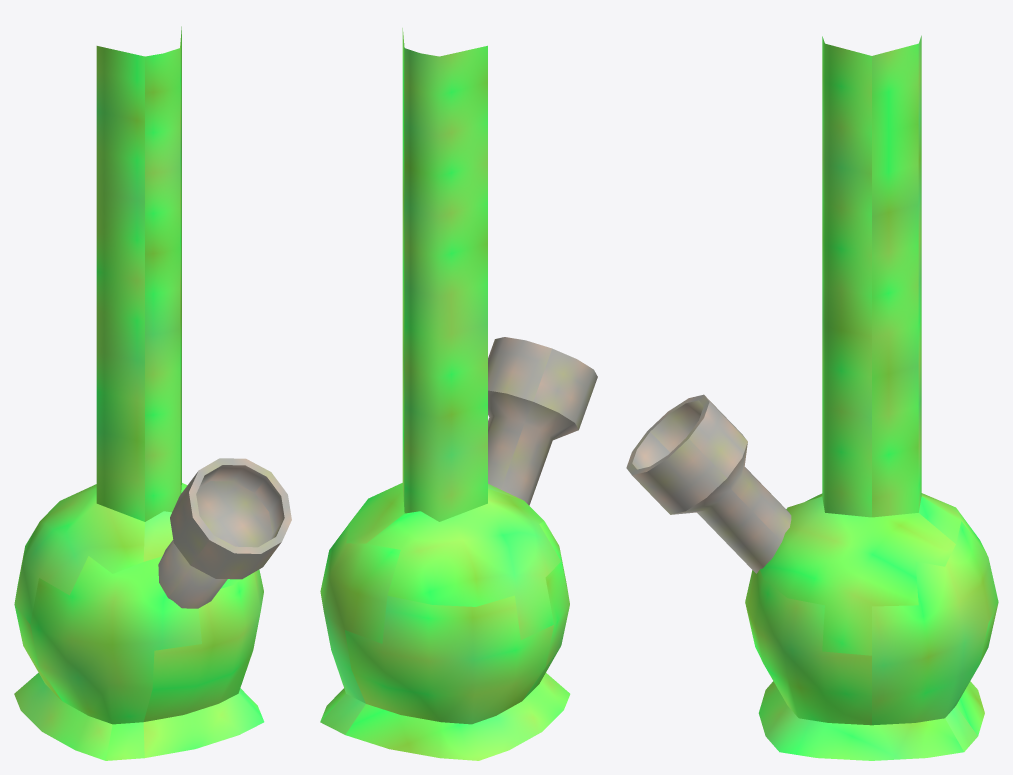
Rendered from 5fdba998-2446-465a-a0e5-43a3b1ee0393.glb.
3 views of the same model, side by side, from view 1: azimuth 30°, elevation 25°; view 2: azimuth 150°, elevation 25°; view 3: azimuth 270°, elevation 25° (orthographic).
Visible parts, largest first — view 1: SmokingAccesories02; view 2: SmokingAccesories02; view 3: SmokingAccesories02.
Part boxes in pixels (bbox=[...]): SmokingAccesories02: bbox=[14, 26, 291, 760]; SmokingAccesories02: bbox=[320, 28, 597, 760]; SmokingAccesories02: bbox=[626, 35, 998, 760].
Size of what is drawn, in the model's own units: 0.161 by 0.4751 by 0.2364.
1 material, 1 textured.
